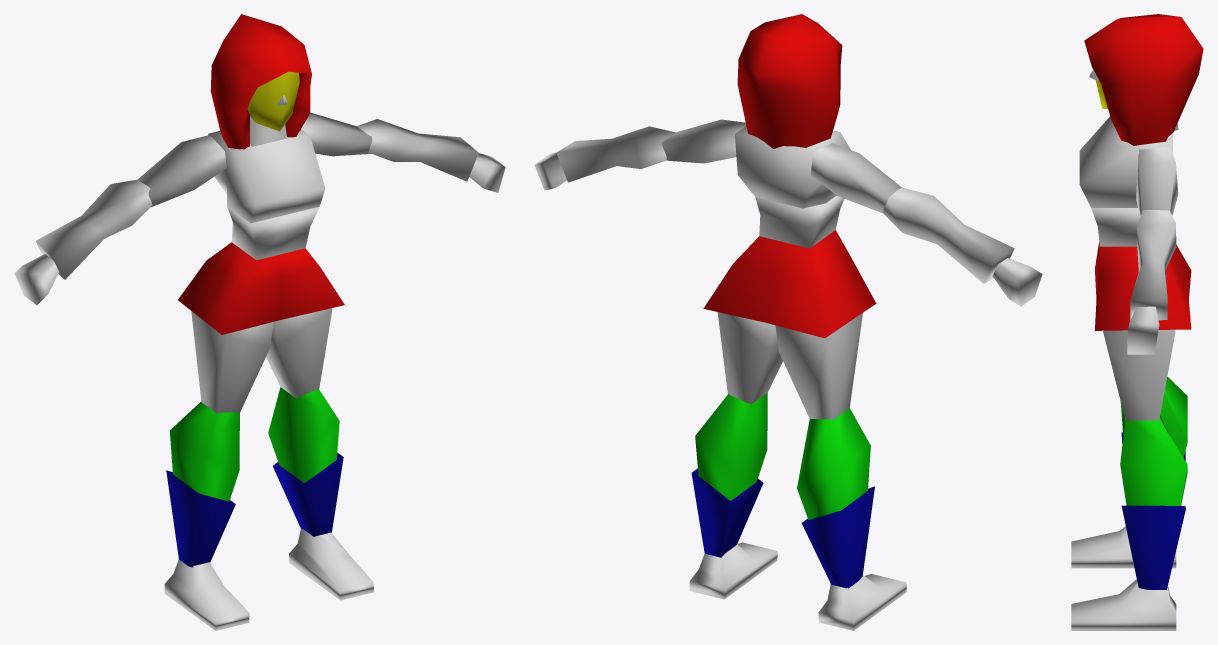
Rendered from PlayerModel.fbx.
The picture shows the model from 3 angles, left to right: view 1: azimuth 30°, elevation 25°; view 2: azimuth 150°, elevation 25°; view 3: azimuth 270°, elevation 25°; orthographic projection. The views are drawn at different scales.
Visible parts, largest first — view 1: Face, Waist, leftLowerLeg1, leftLowerLeg, upperTorso, rightUpperLeg, rightLowerArm, leftUpperLeg, leftLowerArm, rightUpperArm, rightFoot, leftFoot (+4 smaller); view 2: Face, Waist, leftLowerLeg1, leftLowerLeg, rightUpperLeg, upperTorso, rightLowerArm, leftUpperLeg, leftLowerArm, rightUpperArm, lowerTorso, rightFoot (+4 smaller); view 3: Face, leftLowerLeg, Waist, upperTorso, leftUpperLeg, leftFoot, leftLowerArm, leftUpperArm, rightFoot, lowerTorso, leftLowerLeg1, leftHand.
Boxes of the visible parts, x1,y1,x2,y2 form: Face: (210, 14, 311, 149); Waist: (178, 242, 344, 334); leftLowerLeg1: (166, 401, 239, 567); leftLowerLeg: (268, 387, 343, 537); upperTorso: (208, 129, 325, 223); rightUpperLeg: (191, 311, 273, 413); rightLowerArm: (35, 179, 152, 279); leftUpperLeg: (266, 308, 332, 398); leftLowerArm: (357, 119, 478, 181); rightUpperArm: (137, 135, 226, 207); rightFoot: (164, 559, 249, 630); leftFoot: (289, 528, 373, 600); Face: (737, 14, 842, 148); Waist: (703, 230, 876, 338); leftLowerLeg1: (797, 408, 874, 588); leftLowerLeg: (691, 393, 767, 557); rightUpperLeg: (775, 313, 862, 419); upperTorso: (735, 126, 850, 208); rightLowerArm: (883, 187, 1014, 283); leftUpperLeg: (717, 312, 782, 404); leftLowerArm: (556, 126, 675, 182); rightUpperArm: (811, 143, 901, 213); lowerTorso: (755, 195, 844, 248); rightFoot: (818, 574, 906, 630); Face: (1084, 14, 1203, 145); leftLowerLeg: (1120, 415, 1187, 589); Waist: (1095, 242, 1191, 330); upperTorso: (1079, 116, 1172, 207); leftUpperLeg: (1103, 329, 1175, 420); leftFoot: (1071, 579, 1176, 630); leftLowerArm: (1130, 209, 1176, 320); leftUpperArm: (1136, 147, 1178, 217); rightFoot: (1071, 526, 1176, 568); lowerTorso: (1091, 208, 1139, 246); leftLowerLeg1: (1120, 377, 1187, 460); leftHand: (1127, 306, 1159, 354).
Bounding box in the file's own units: 1.4 × 1.57 × 0.3274.
